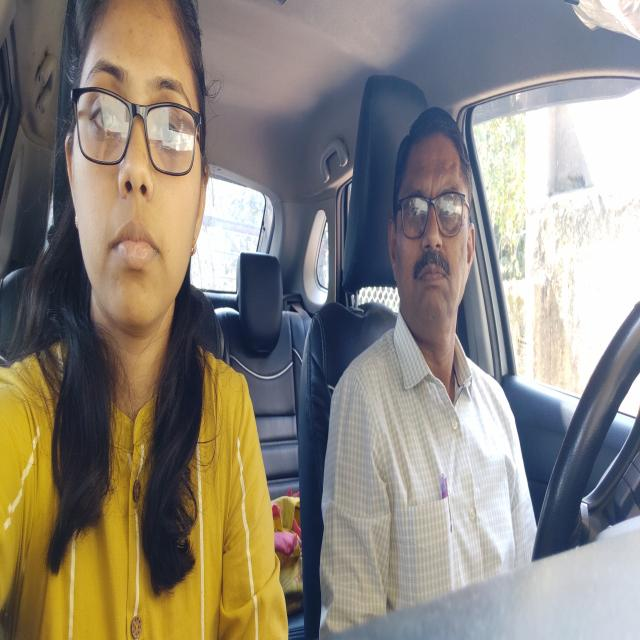LeftRight: (391, 97, 481, 360)
person: (59, 0, 220, 376)
